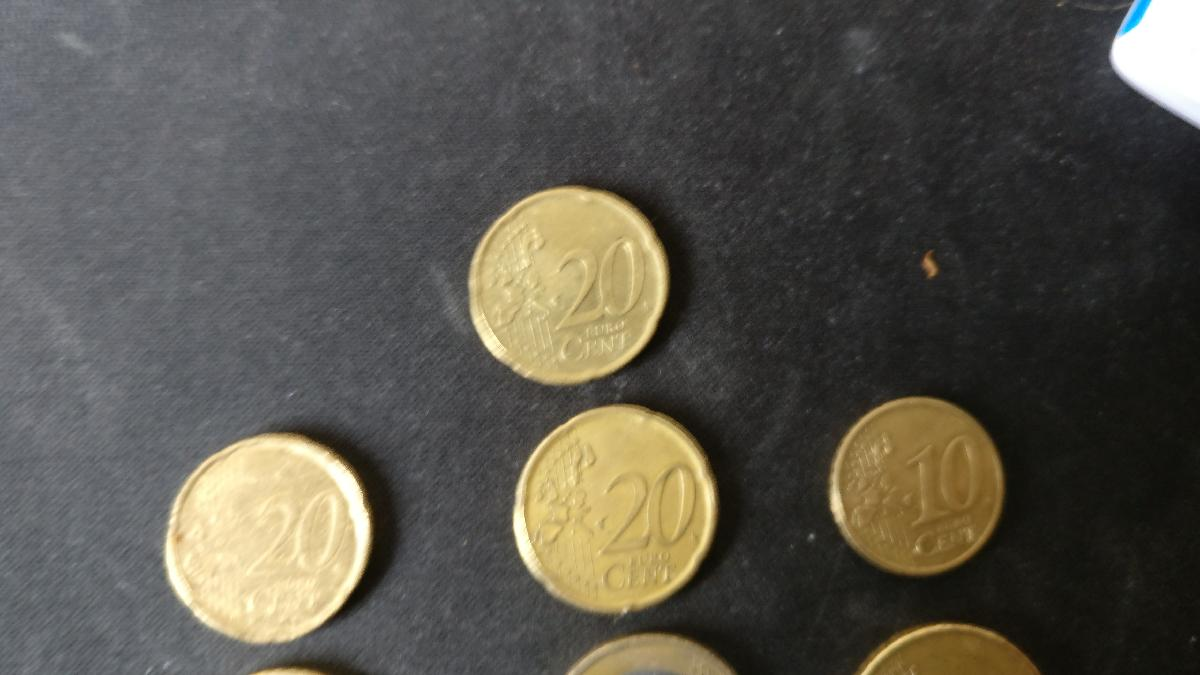Fifty Cent: (852, 620, 1041, 675)
One Euro: (559, 629, 745, 675)
Ten Cent: (830, 398, 1009, 572)
Twenty Cent: (161, 431, 389, 647), (514, 403, 717, 616), (466, 186, 674, 385)
